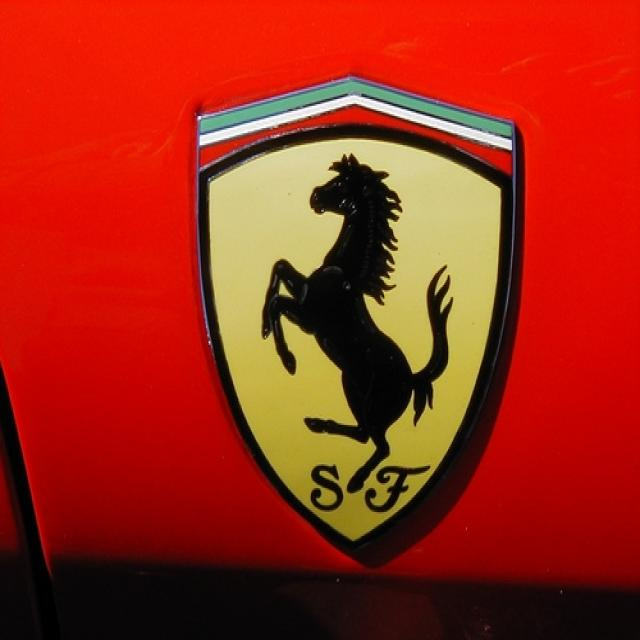ferrari: (174, 71, 526, 568)
